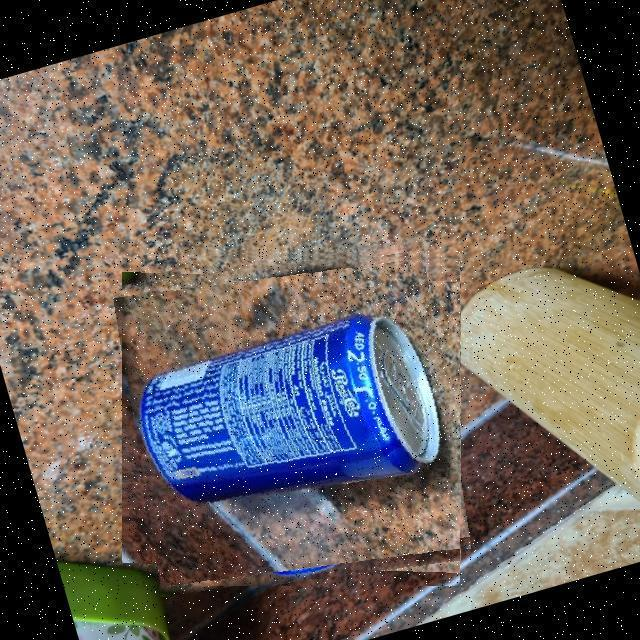recyclable: (123, 249, 460, 586)
